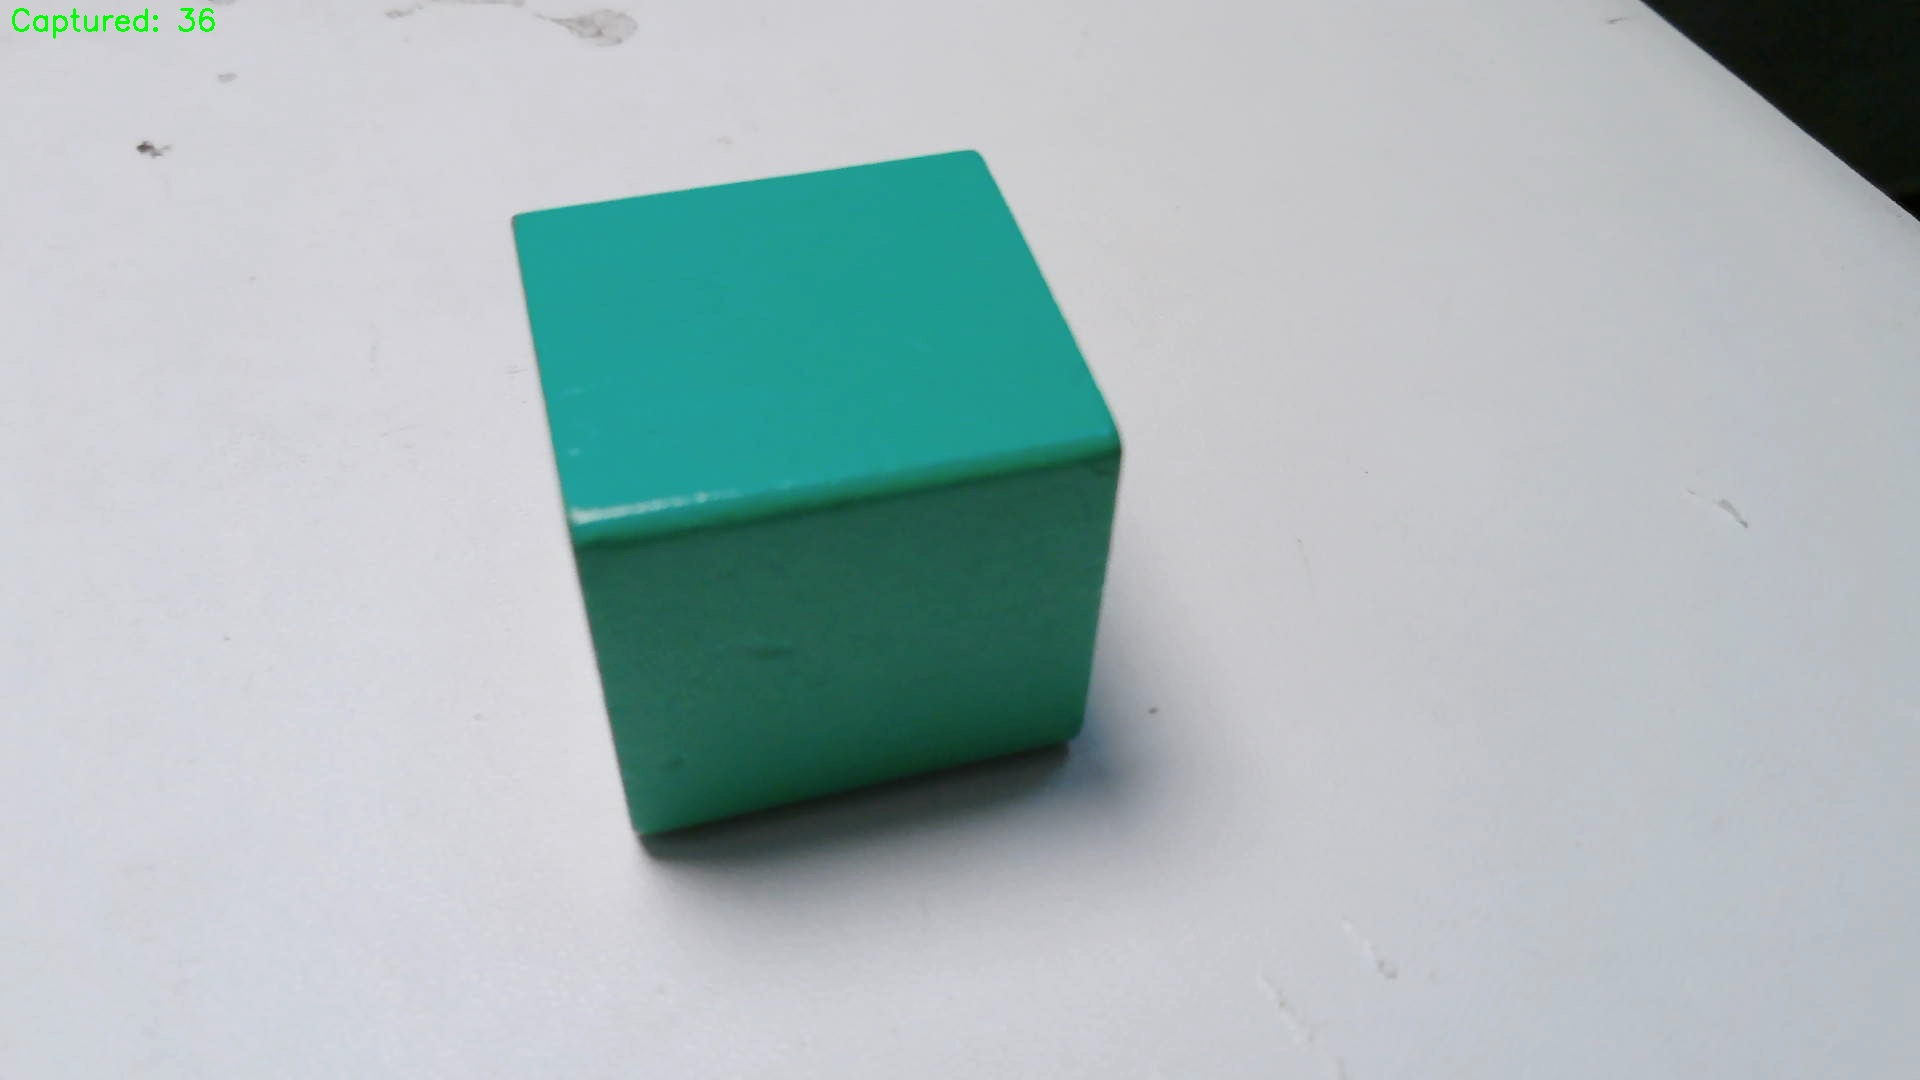green: (512, 148, 1127, 837)
